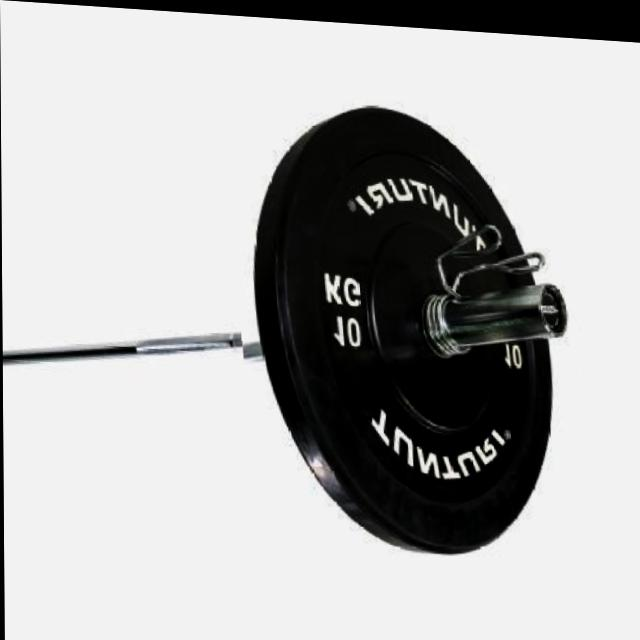barbell: (233, 78, 587, 579)
